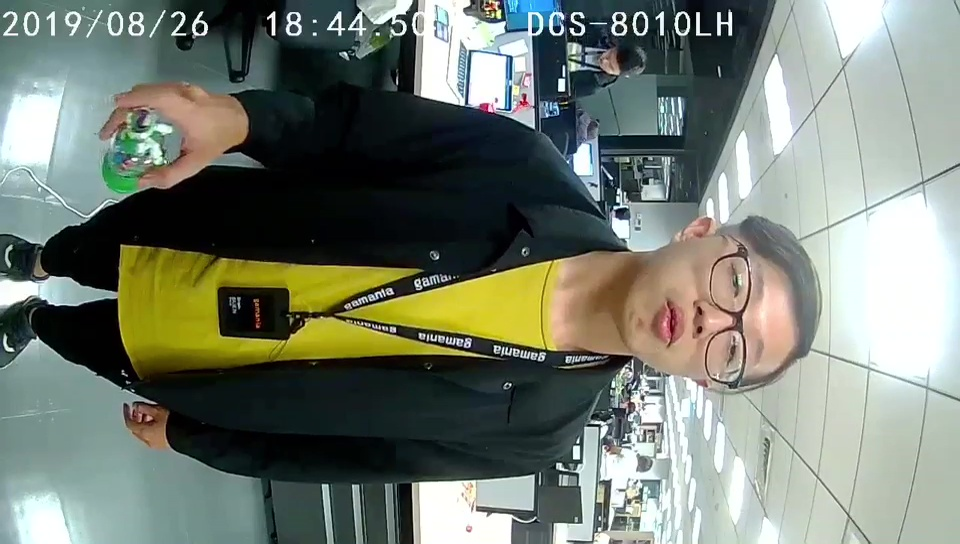buzz: (99, 106, 174, 196)
